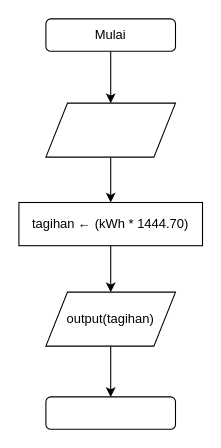
Image size: 221x448. Some labels were removed from this diagram. Each missing label, with the centre of its shape:
"input(kWh)" goes at point (110, 129).
"Selesai" goes at point (110, 412).
